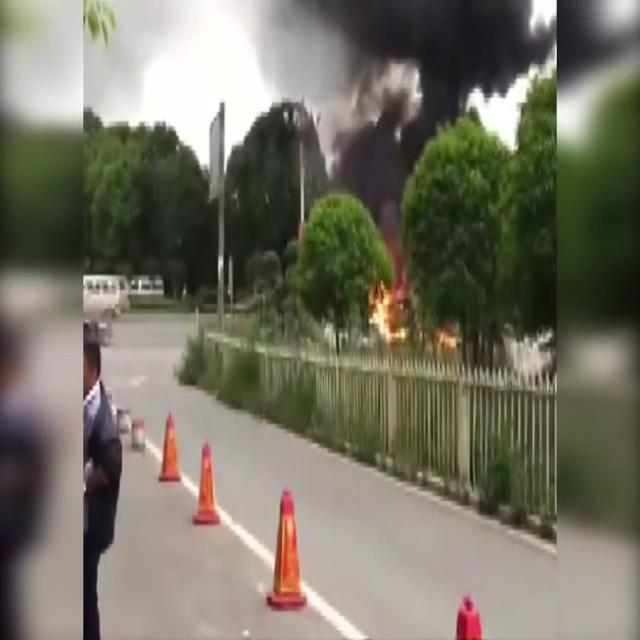Smoke: (319, 0, 555, 158)
